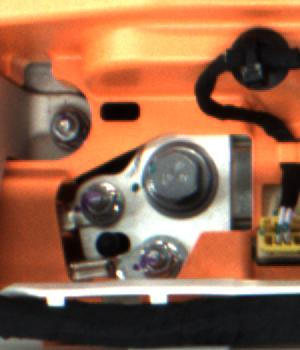nut_b: (135, 135, 220, 224)
